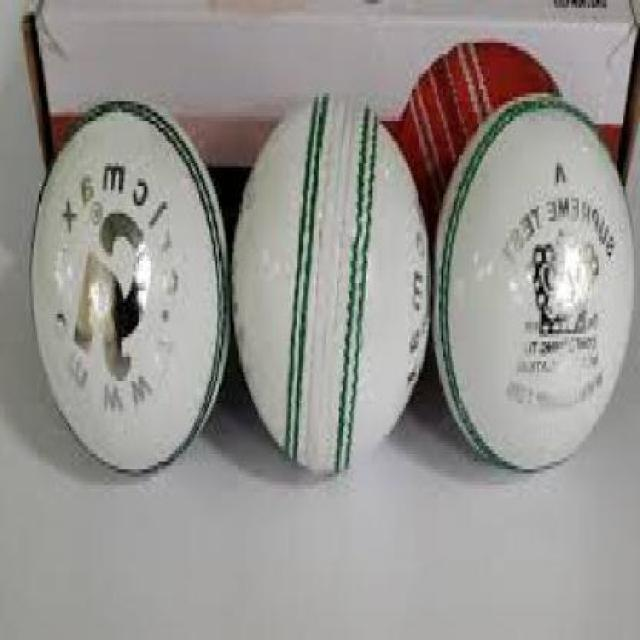ball: (418, 23, 640, 520)
